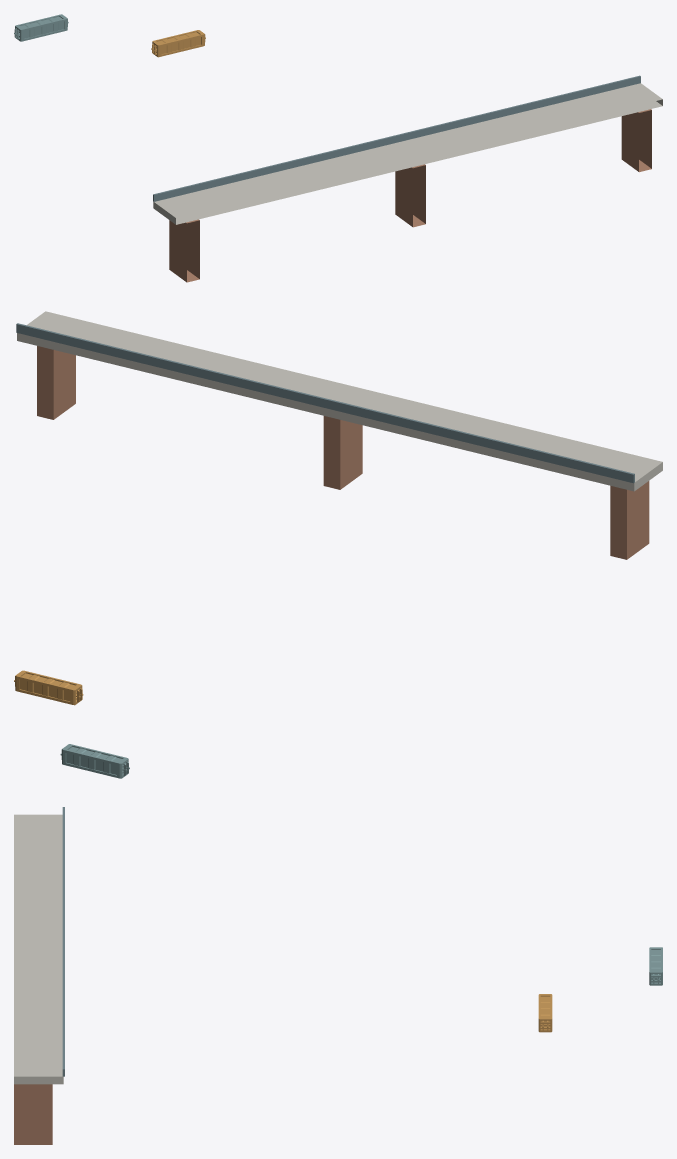
File: urban-1-1.glb
3 renders of one model, top to bottom at view 1: azimuth 30°, elevation 25°; view 2: azimuth 150°, elevation 25°; view 3: azimuth 270°, elevation 25°, orthographic. The views are drawn at different scales.
Visible parts, largest first — view 1: urban-1-1; view 2: urban-1-1; view 3: urban-1-1.
Part boxes in pixels (x1,y1,x2,y2): urban-1-1: [14, 14, 662, 282]; urban-1-1: [14, 311, 662, 778]; urban-1-1: [14, 807, 662, 1144].
Size of the model in its own units: 112 by 16.25 by 117.
